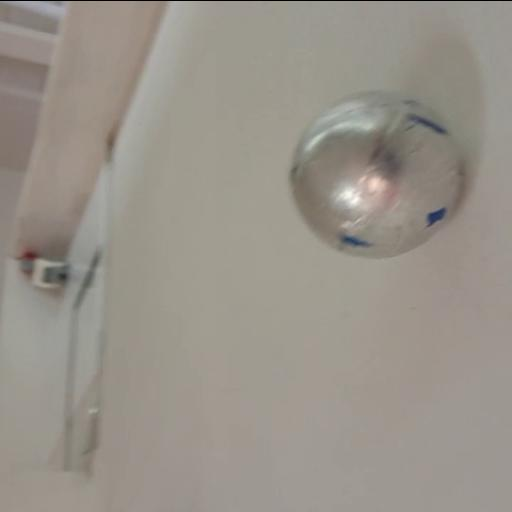alive: (288, 90, 468, 256)
